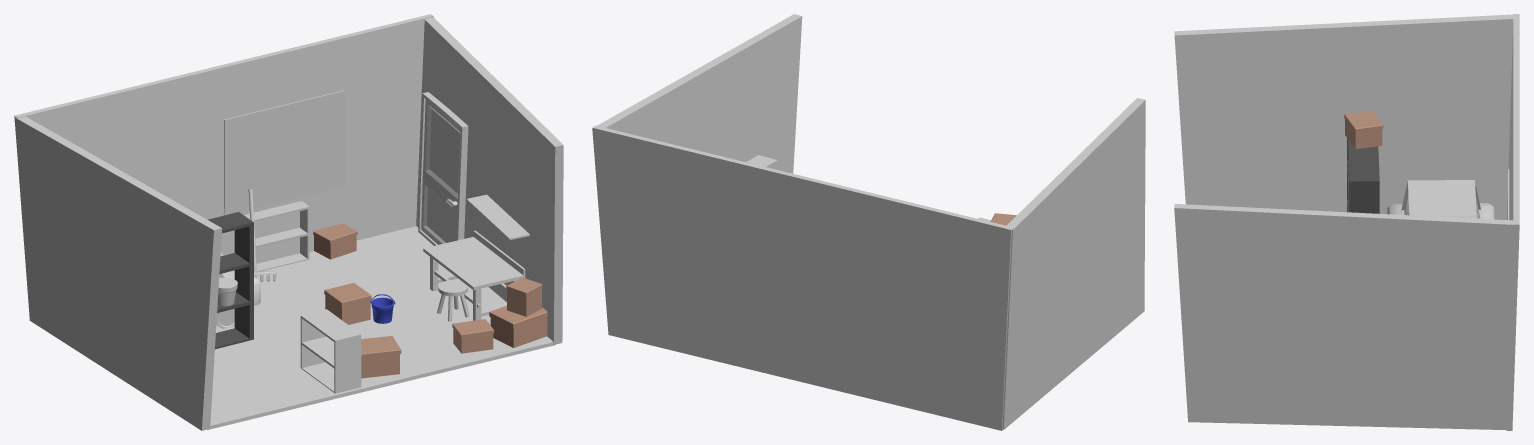
Rendered from Items_Garage_update_3.fbx.
The picture shows the model from 3 angles, left to right: view 1: azimuth 30°, elevation 25°; view 2: azimuth 150°, elevation 25°; view 3: azimuth 270°, elevation 25°; orthographic projection. The views are drawn at different scales.
Parts seen in each view (by area): view 1: Cube.012, Cube.013, Cube.010, Cube.037, Cube.015, StorageNoBack.006, Cube.028, StorageNoBack.004, StorageNoBack.005, SorageBoxN.007, SorageBoxN.008, SorageBoxN.009 (+7 smaller); view 2: Cube.013, Cube.012; view 3: Cube.012, Cube.013, Cube.027, StorageNoBack.004, SorageBoxN.013.
Boxes of the visible parts, left/top/right/bottom form: Cube.012: left=14, top=17, right=563, bottom=430; Cube.013: left=14, top=14, right=433, bottom=263; Cube.010: left=207, top=226, right=555, bottom=429; Cube.037: left=224, top=90, right=344, bottom=215; Cube.015: left=418, top=92, right=468, bottom=245; StorageNoBack.006: left=300, top=309, right=361, bottom=393; Cube.028: left=423, top=230, right=525, bottom=320; StorageNoBack.004: left=207, top=212, right=253, bottom=349; StorageNoBack.005: left=244, top=201, right=309, bottom=271; SorageBoxN.007: left=489, top=305, right=547, bottom=347; SorageBoxN.008: left=324, top=283, right=371, bottom=324; SorageBoxN.009: left=361, top=336, right=401, bottom=378; Cube.013: left=592, top=125, right=1013, bottom=430; Cube.012: left=597, top=14, right=1145, bottom=429; Cube.012: left=1174, top=14, right=1513, bottom=430; Cube.013: left=1506, top=14, right=1519, bottom=430; Cube.027: left=1387, top=180, right=1494, bottom=219; StorageNoBack.004: left=1347, top=138, right=1379, bottom=213; SorageBoxN.013: left=1344, top=110, right=1383, bottom=149.
Bounding box in the file's own units: 695 × 327 × 481.
